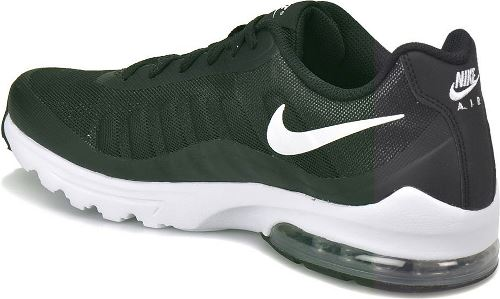nike: (265, 104, 407, 156)
